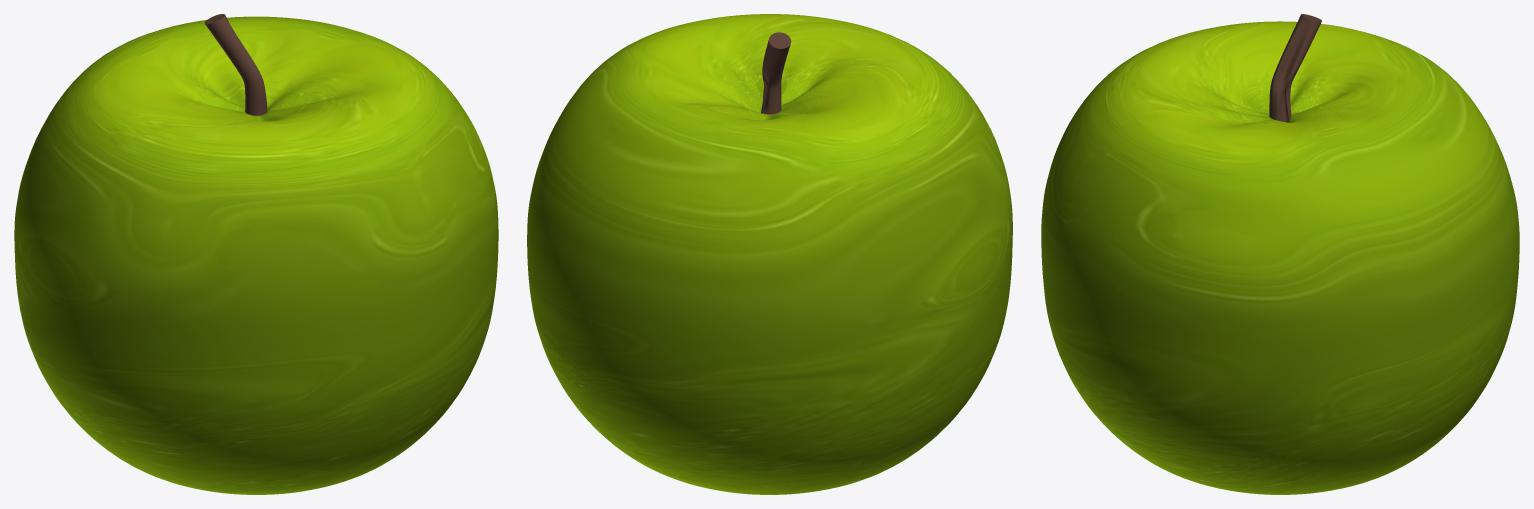
Rendered from Green_Apple2.fbx.
The picture shows the model from 3 angles, left to right: view 1: azimuth 30°, elevation 25°; view 2: azimuth 150°, elevation 25°; view 3: azimuth 270°, elevation 25°; orthographic projection.
Parts seen in each view (by area): view 1: Green_Apple1; view 2: Green_Apple1; view 3: Green_Apple1.
Part boxes in pixels (x1,y1,x2,y2): Green_Apple1: (14, 14, 498, 494); Green_Apple1: (527, 14, 1012, 494); Green_Apple1: (1041, 14, 1519, 494).
Size of the model in its own units: 1.66 by 1.63 by 1.66.
Materials: 2 (2 with a texture image).
